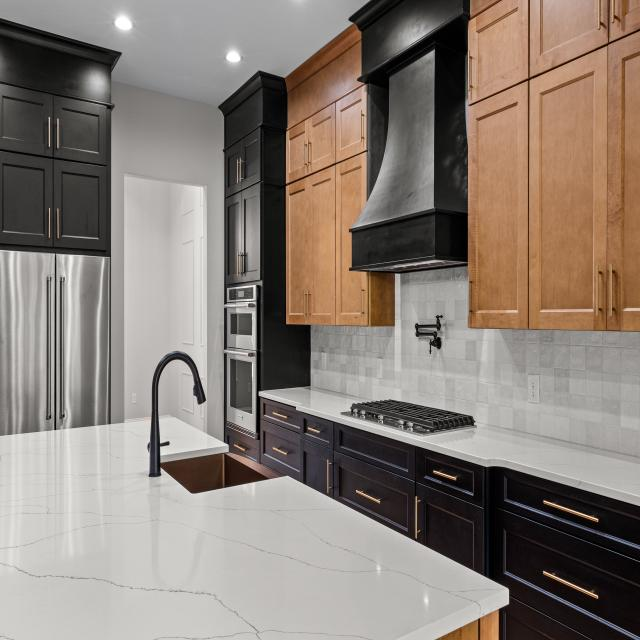Appliance_Fridge: (0, 250, 111, 437)
Appliance_Oven: (224, 348, 257, 438), (225, 284, 260, 350)
Appliance_Sink: (149, 351, 282, 494)
Appliance_Stove: (343, 400, 475, 435)
Cabinet_Inset: (225, 399, 640, 640), (467, 0, 640, 334), (284, 28, 367, 328), (0, 84, 110, 259), (223, 133, 259, 280)
Countertop_Marble: (0, 417, 509, 640), (259, 388, 640, 509), (159, 414, 229, 464)
